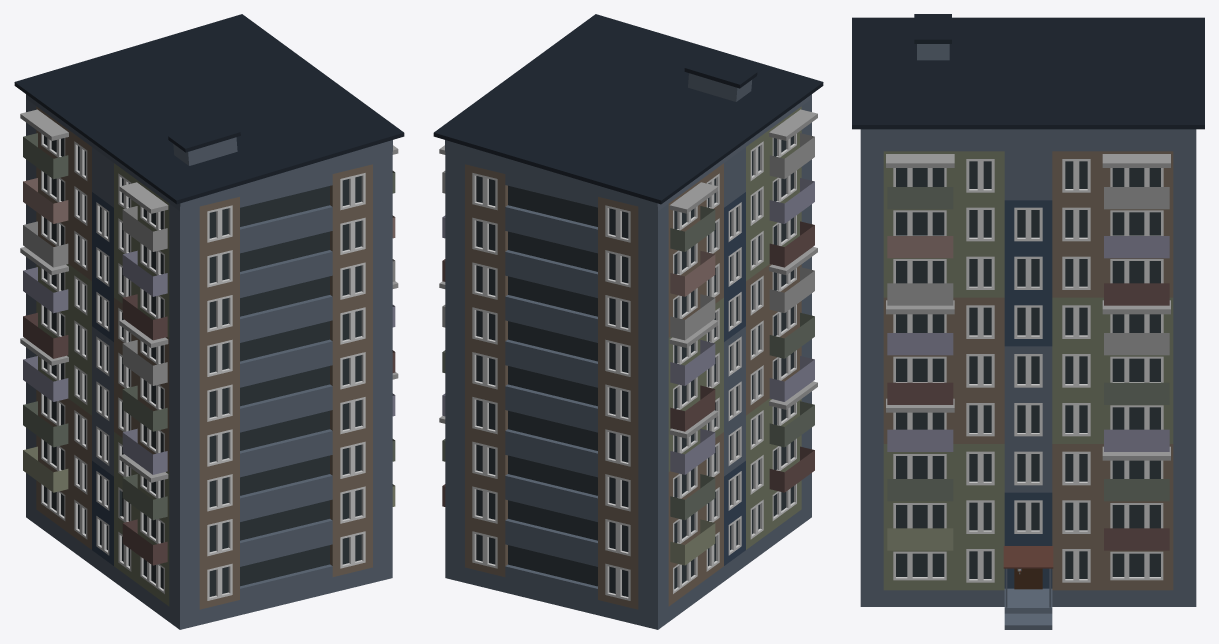
File: House 4.fbx
The picture shows the model from 3 angles, left to right: view 1: azimuth 30°, elevation 25°; view 2: azimuth 150°, elevation 25°; view 3: azimuth 270°, elevation 25°; orthographic projection. The views are drawn at different scales.
Visible parts, largest first — view 1: Cube; view 2: Cube; view 3: Cube.
Part boxes in pixels (box(x1,y1,x2,y2)): Cube: box(14, 14, 404, 629); Cube: box(433, 14, 823, 629); Cube: box(852, 14, 1204, 629).
Bounding box in the file's own units: 1922 × 3085 × 1974.
